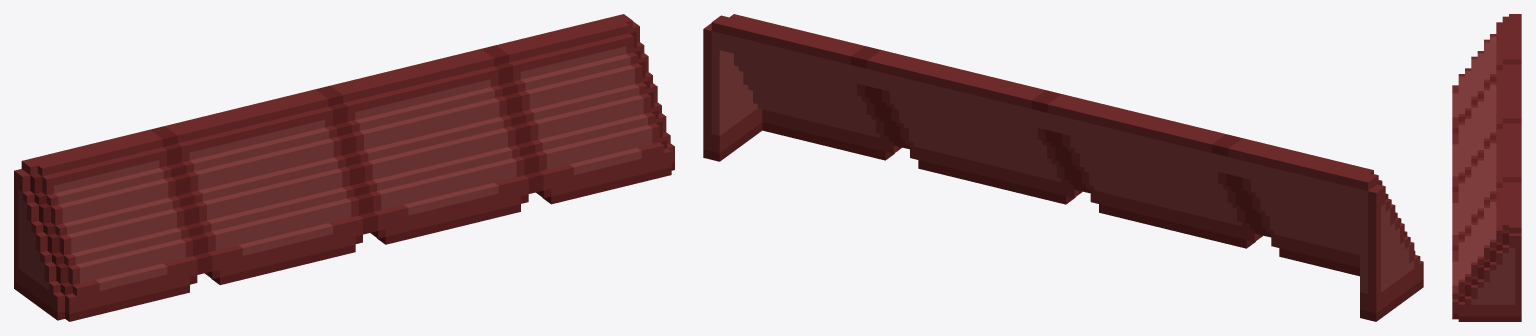
File: Voxel City-9-Fabric Roof_Red-1.obj
The picture shows the model from 3 angles, left to right: view 1: azimuth 30°, elevation 25°; view 2: azimuth 150°, elevation 25°; view 3: azimuth 270°, elevation 25°; orthographic projection. The views are drawn at different scales.
Visible parts, largest first — view 1: Fabric Roof_Red-1; view 2: Fabric Roof_Red-1; view 3: Fabric Roof_Red-1.
Part boxes in pixels (x1,y1,x2,y2): Fabric Roof_Red-1: [14, 14, 674, 321]; Fabric Roof_Red-1: [703, 14, 1423, 321]; Fabric Roof_Red-1: [1452, 14, 1521, 321].
Bounding box in the file's own units: 4.1 × 0.8 × 0.55.
1 material, 1 textured.
